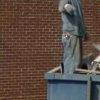Statue: (44, 3, 95, 75)
